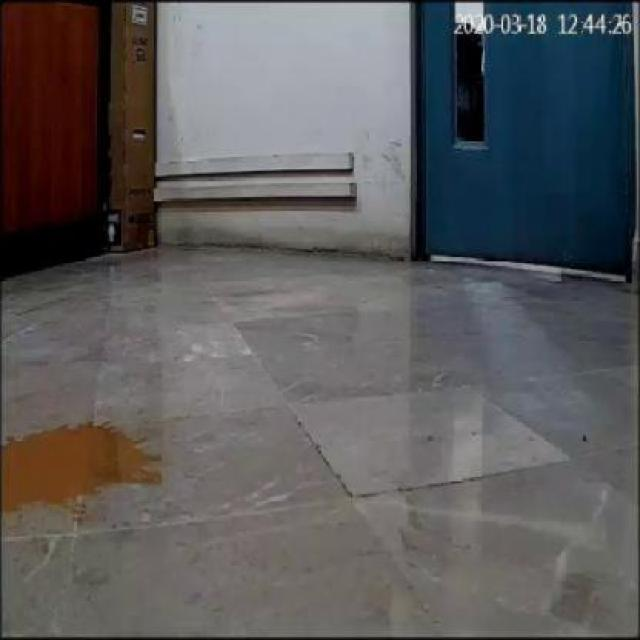spillage: (3, 426, 161, 512)
